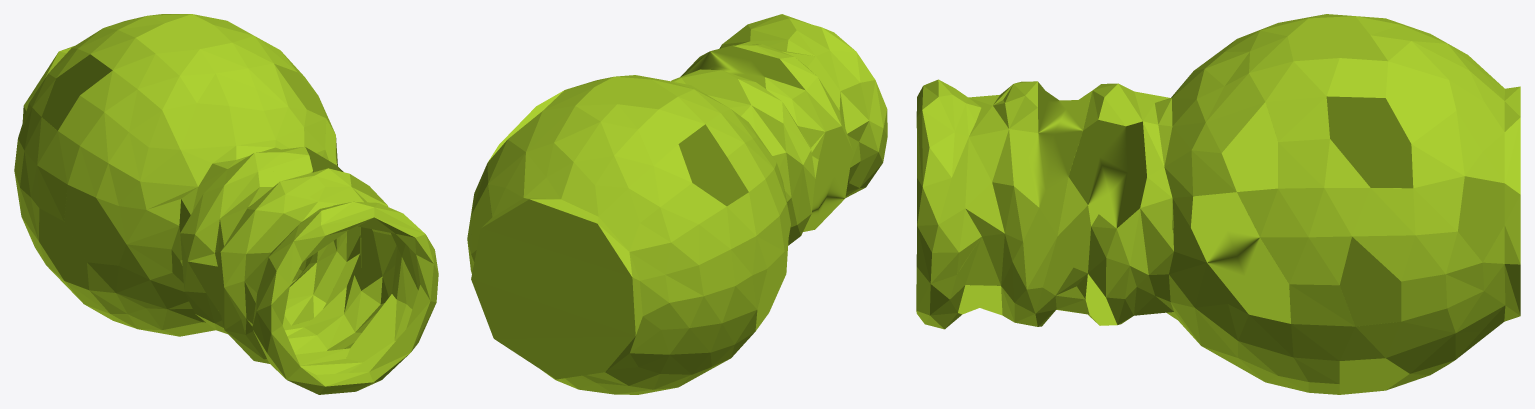
File: model_align.obj
The picture shows the model from 3 angles, left to right: view 1: azimuth 30°, elevation 25°; view 2: azimuth 150°, elevation 25°; view 3: azimuth 270°, elevation 25°; orthographic projection. The views are drawn at different scales.
Size of the model in its own units: 0.1257 by 0.1257 by 0.1987.
